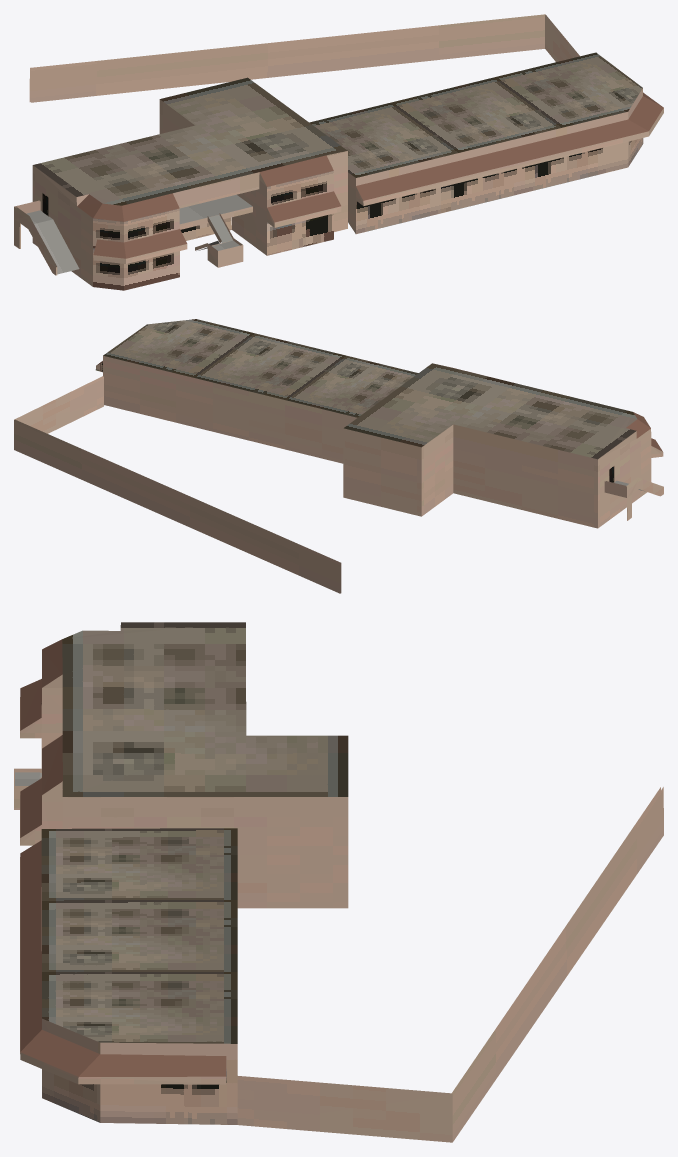
Rendered from lodbuildvgas05.obj.
The picture shows the model from 3 angles, top to bottom: view 1: azimuth 30°, elevation 25°; view 2: azimuth 150°, elevation 25°; view 3: azimuth 270°, elevation 25°; orthographic projection. The views are drawn at different scales.
Parts seen in each view (by area): view 1: lodbuildvgas05; view 2: lodbuildvgas05; view 3: lodbuildvgas05.
Part boxes in pixels (bbox=[...]): lodbuildvgas05: bbox=[14, 14, 663, 290]; lodbuildvgas05: bbox=[14, 319, 663, 593]; lodbuildvgas05: bbox=[14, 622, 663, 1142].
Size of the model in its own units: 79.27 by 9.92 by 51.17.
Materials: 2 (2 with a texture image).
